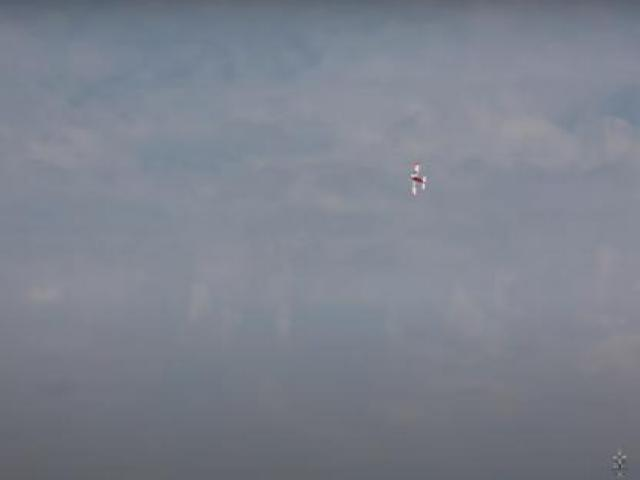uav: (409, 162, 428, 200)
